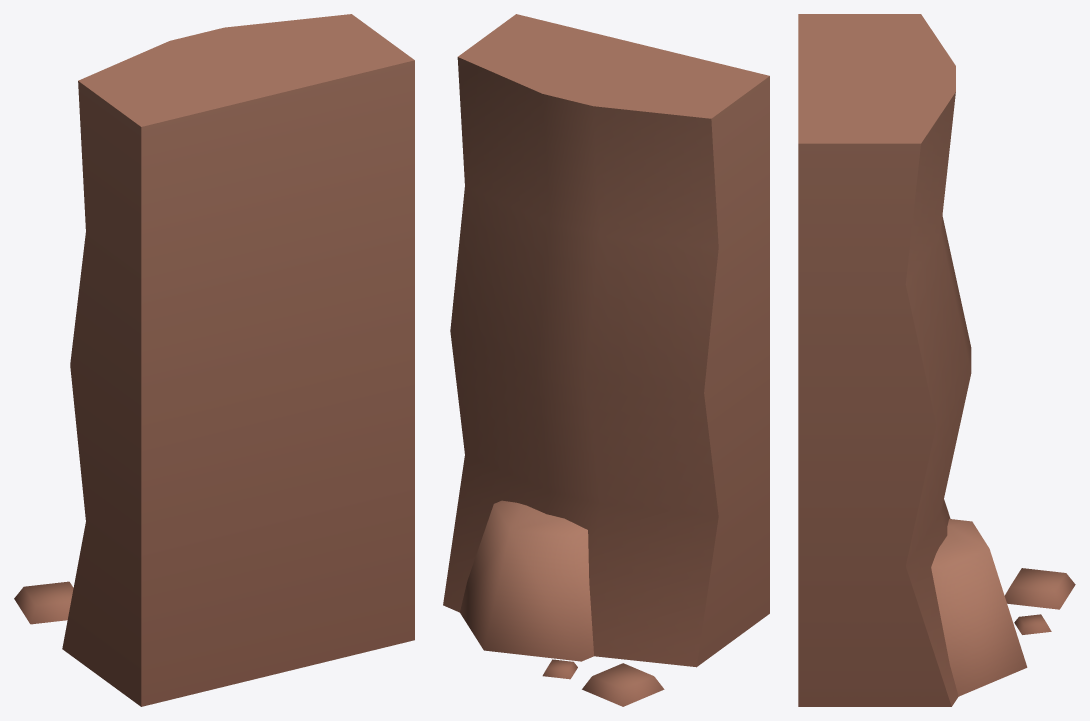
File: template-wall-half.glb
3 renders of one model, left to right at view 1: azimuth 30°, elevation 25°; view 2: azimuth 150°, elevation 25°; view 3: azimuth 270°, elevation 25°, orthographic. The views are drawn at different scales.
Parts seen in each view (by area): view 1: template-wall-half; view 2: template-wall-half; view 3: template-wall-half.
Boxes of the visible parts, x1,y1,x2,y2 form: template-wall-half: (14, 14, 414, 706); template-wall-half: (443, 14, 769, 706); template-wall-half: (798, 14, 1075, 706).
Bounding box in the file's own units: 2 × 4.05 × 1.81.
Materials: 1 (1 with a texture image).
